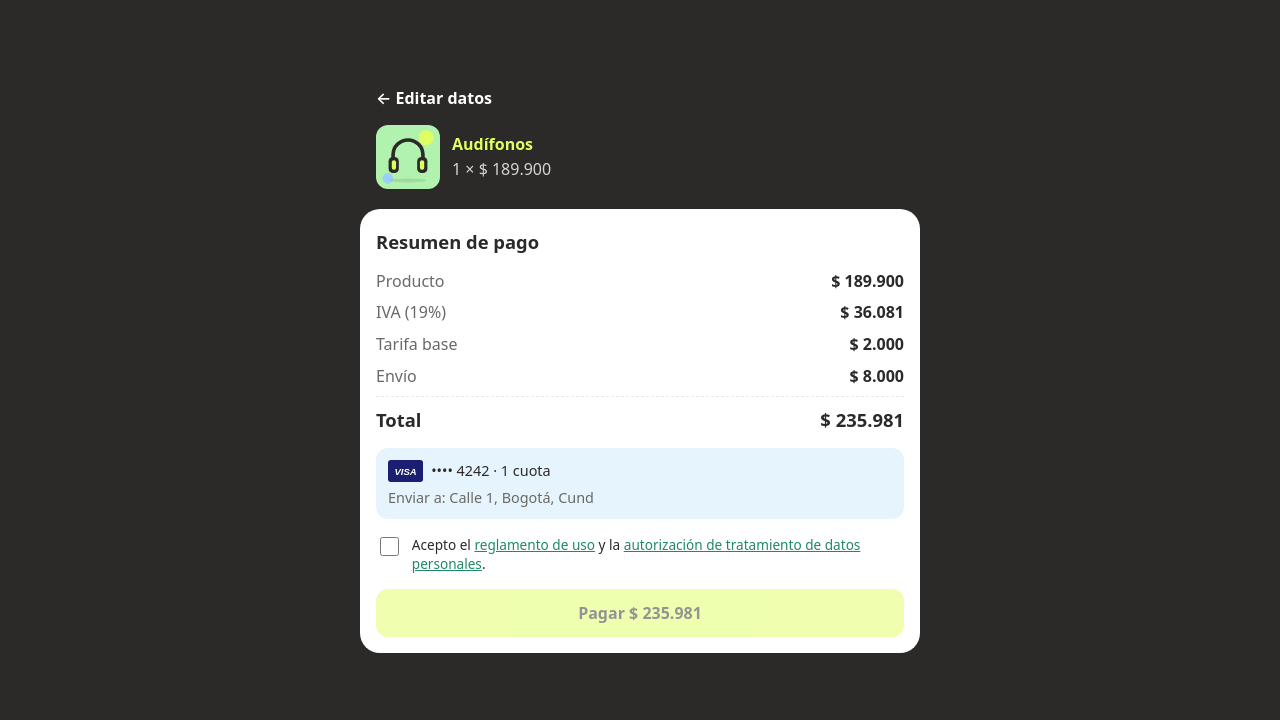
SummaryBackdrop › muestra el error del pago
The image size is (1280, 720).
Click the checkbox.
click(390, 546)  # box top-left (380, 537), bottom-right (399, 556)
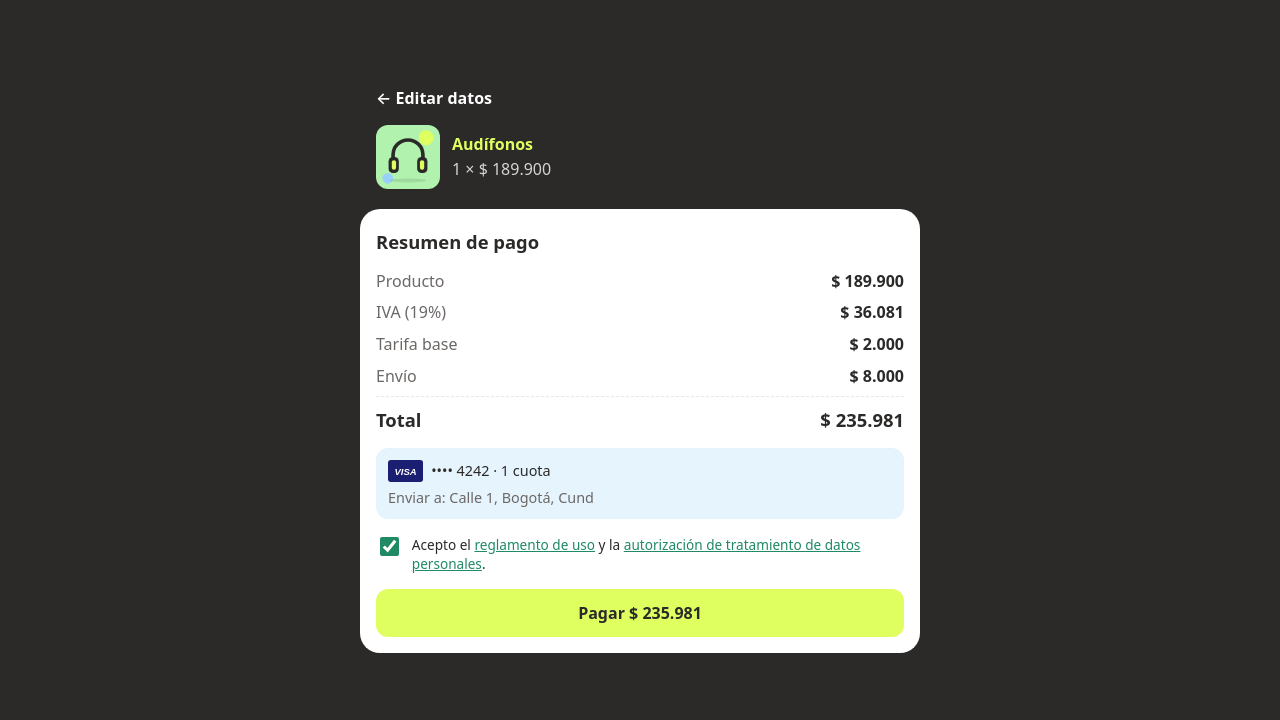
Click the button "Pagar $ 235.981".
click(640, 613)  # box top-left (376, 589), bottom-right (904, 637)
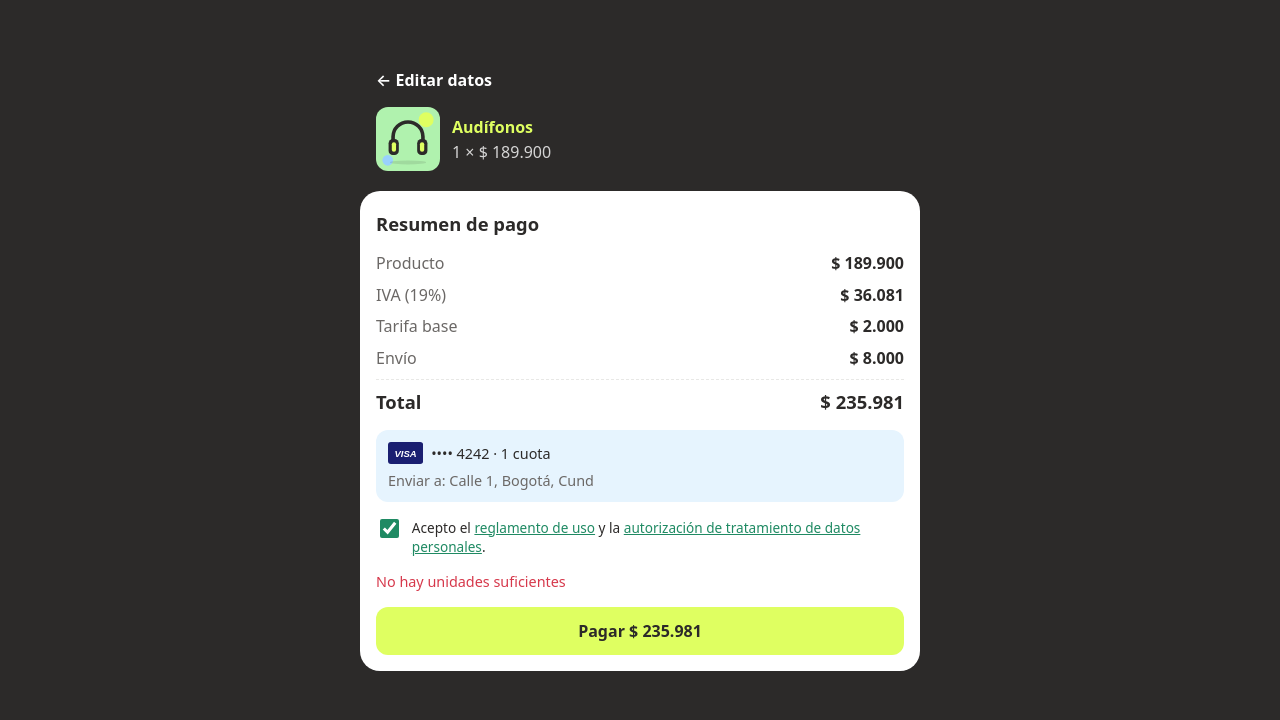
Expected: the message "No hay unidades suficientes" is shown, top-left (376, 572), bottom-right (566, 591)
Expected: the message reads "No hay unidades suficientes", top-left (376, 572), bottom-right (566, 591)
